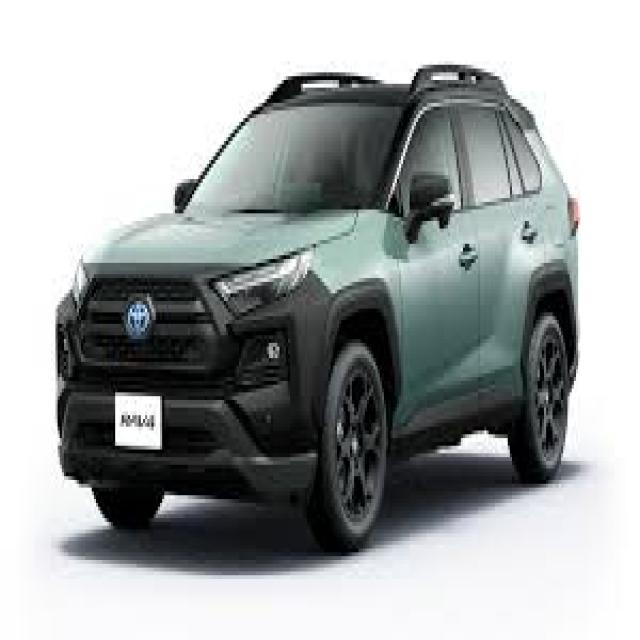light_vehicle: (54, 65, 582, 556)
